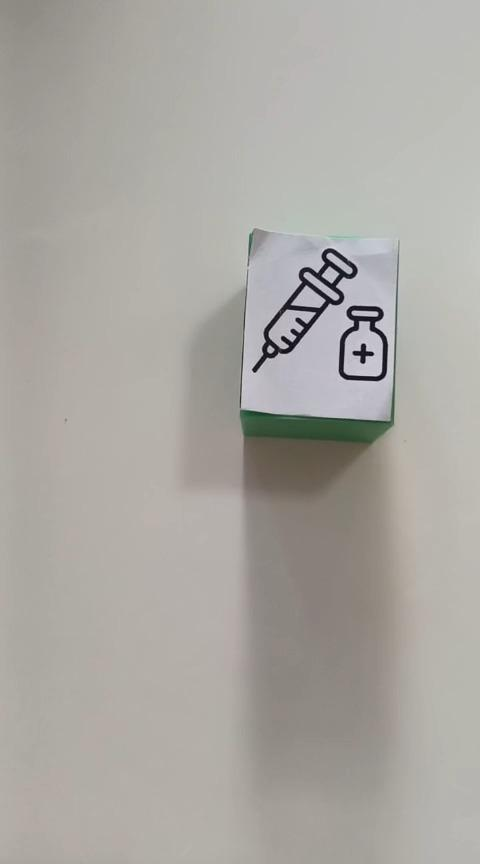antiseptic cream: (238, 226, 399, 443)
